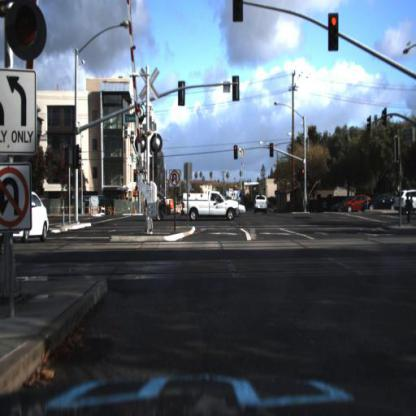car: (148, 188, 241, 226), (26, 192, 53, 239), (363, 192, 406, 215), (344, 192, 376, 213)
pedestrian: (404, 185, 415, 231)
trafficLight: (7, 1, 46, 60), (233, 1, 244, 22)
trafficLight-Red: (328, 12, 340, 53), (269, 139, 277, 160), (233, 142, 239, 163), (301, 164, 307, 185)
truck: (156, 184, 246, 220)
